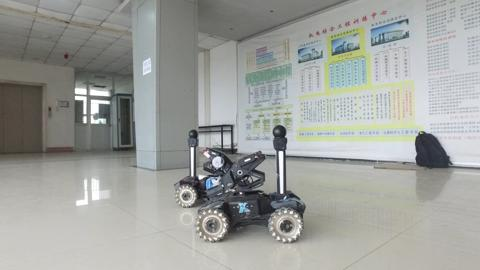chariot: (192, 123, 310, 246), (175, 127, 250, 209)
